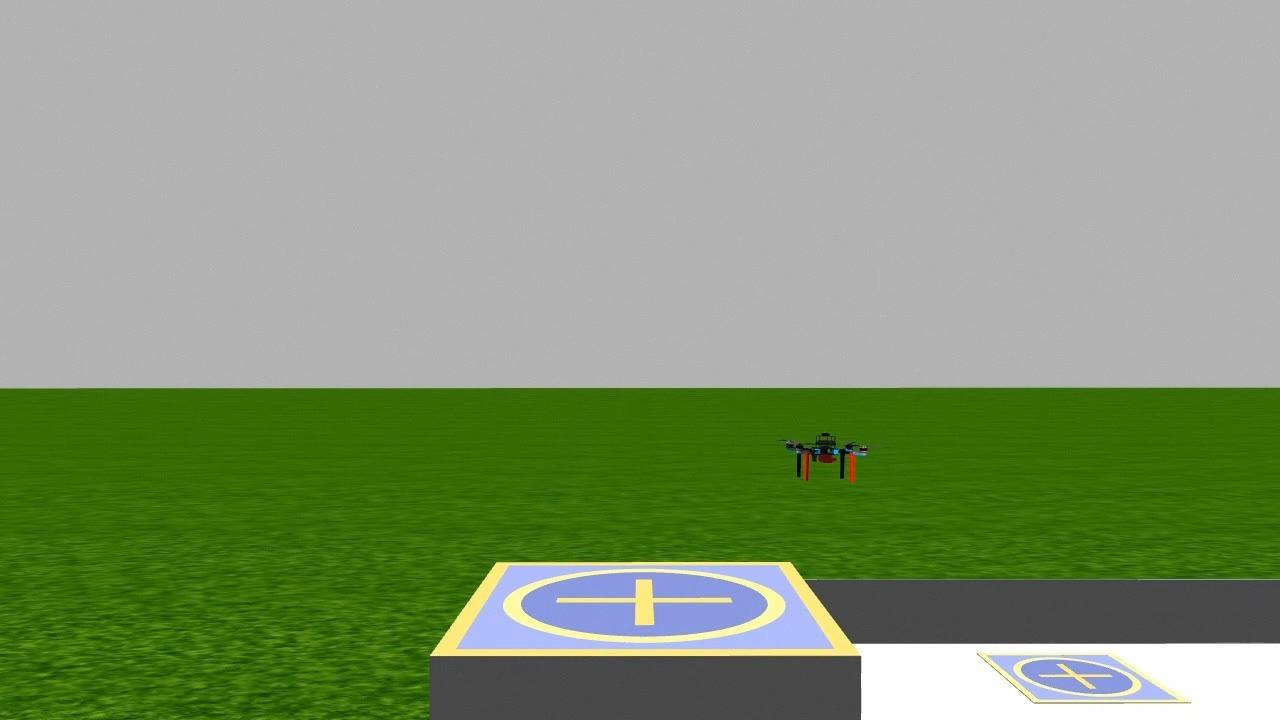UAV: (777, 421, 900, 492)
